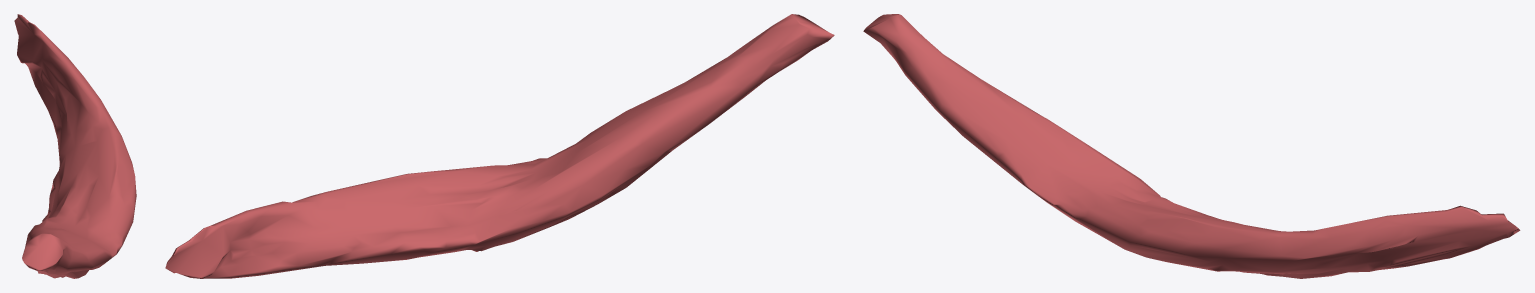
The picture shows the model from 3 angles, left to right: view 1: azimuth 30°, elevation 25°; view 2: azimuth 150°, elevation 25°; view 3: azimuth 270°, elevation 25°; orthographic projection. The views are drawn at different scales.
Visible parts, largest first — view 1: 左侧旋前圆肌尺头; view 2: 左侧旋前圆肌尺头; view 3: 左侧旋前圆肌尺头.
Part boxes in pixels (x1,y1,x2,y2): 左侧旋前圆肌尺头: (14,14,136,278); 左侧旋前圆肌尺头: (165,14,834,278); 左侧旋前圆肌尺头: (863,14,1520,278).
Bounding box in the file's own units: 0.0792 × 0.0375 × 0.1431.
